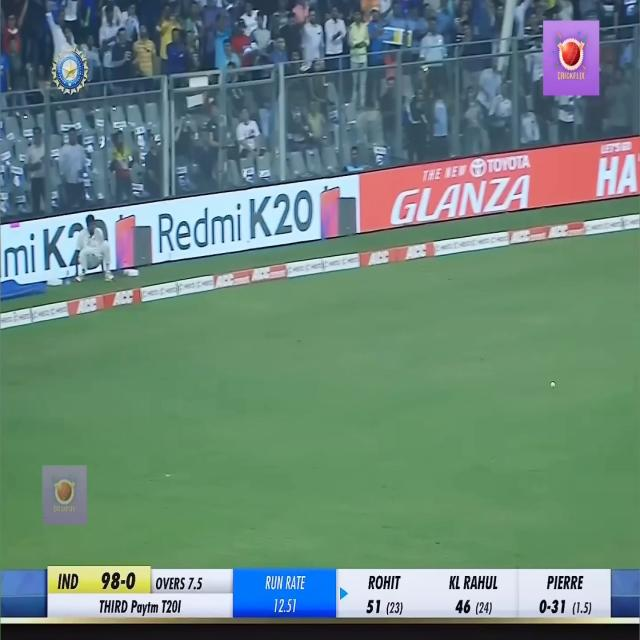fully_visible: (127, 597, 159, 617)
